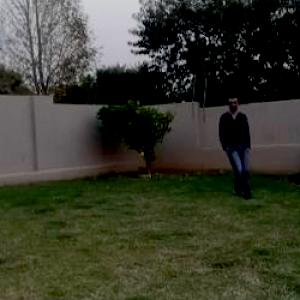follow: (220, 91, 255, 203)
